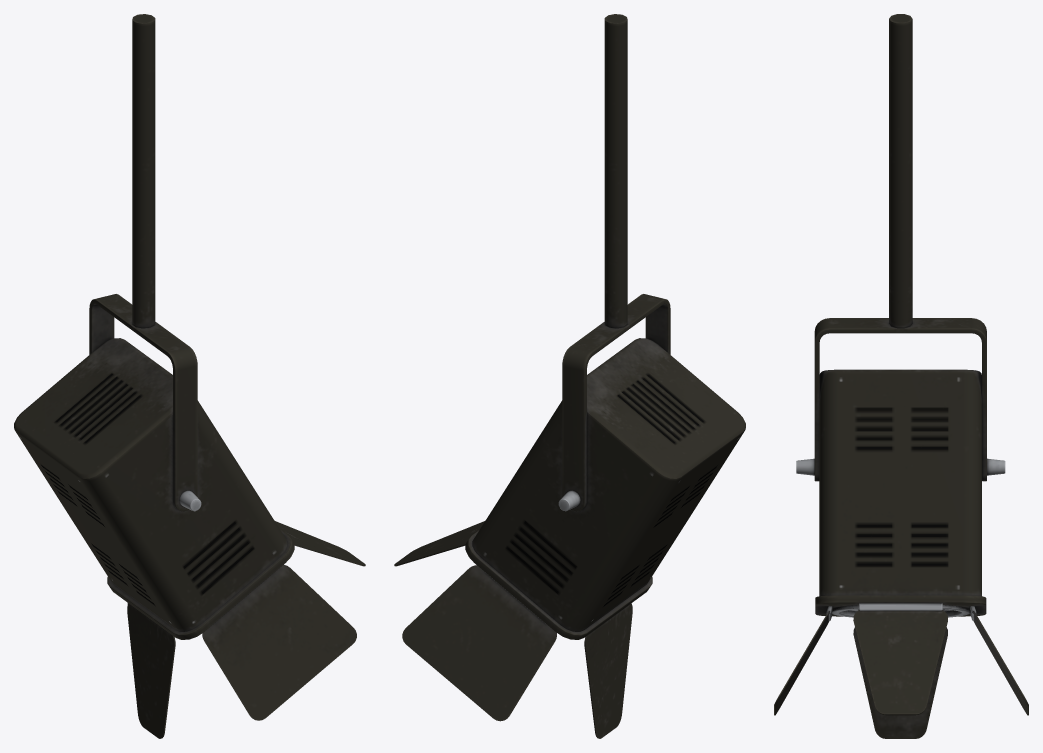
The model's file is SM_Roof_Light_02.fbx.
3 views of the same model, side by side, from view 1: azimuth 30°, elevation 25°; view 2: azimuth 150°, elevation 25°; view 3: azimuth 270°, elevation 25° (orthographic).
Visible parts, largest first — view 1: SM_Roof_Light_02_LOD0; view 2: SM_Roof_Light_02_LOD0; view 3: SM_Roof_Light_02_LOD0.
Boxes of the visible parts, x1=… form: SM_Roof_Light_02_LOD0: x1=14, y1=14, x2=365, y2=738; SM_Roof_Light_02_LOD0: x1=394, y1=14, x2=745, y2=738; SM_Roof_Light_02_LOD0: x1=774, y1=14, x2=1028, y2=738.
Size of the model in its own units: 84.77 by 60.47 by 187.
1 material, 1 textured.
